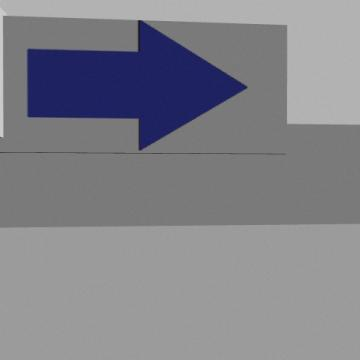blue_right: (26, 21, 247, 150)
